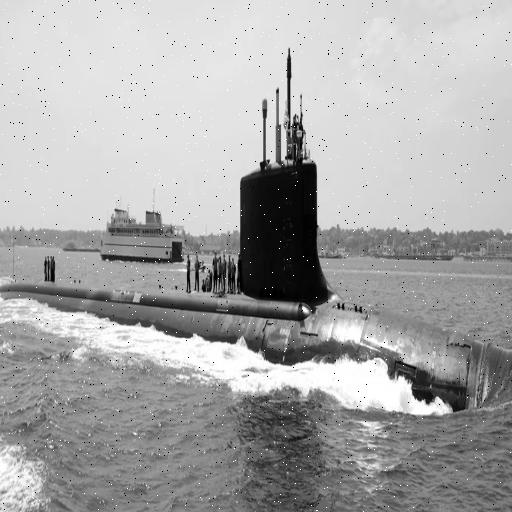submarine: (1, 35, 512, 420)
